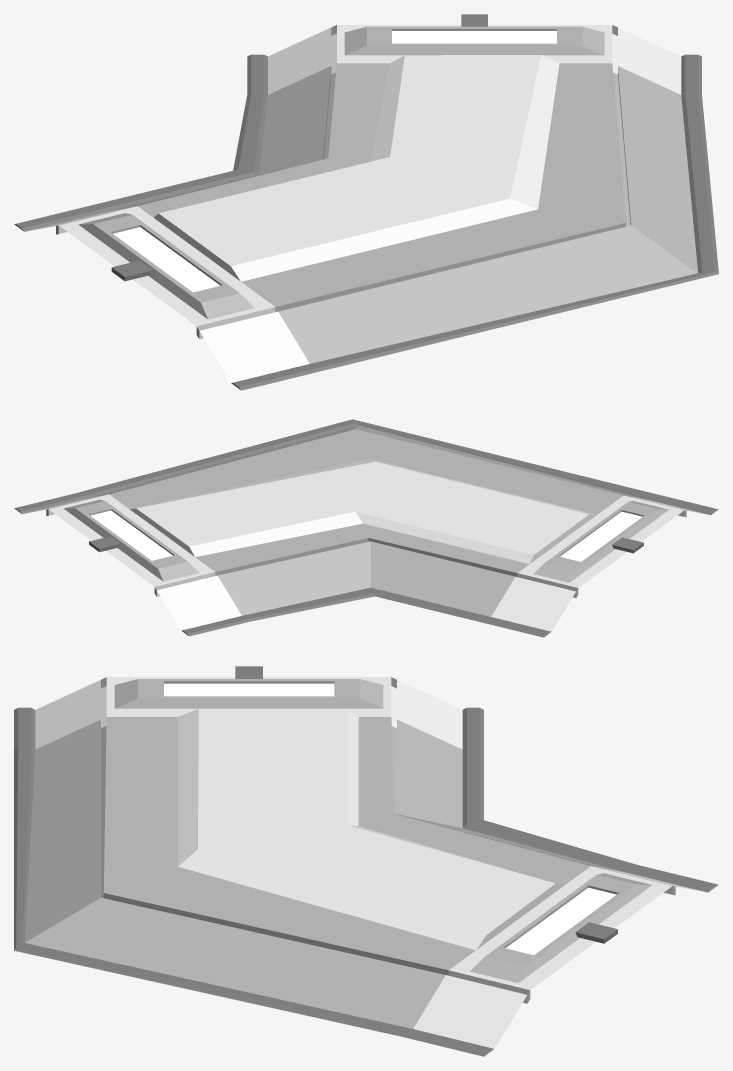
The model's file is Empty_120_degrees.fbx.
The picture shows the model from 3 angles, top to bottom: view 1: azimuth 30°, elevation 25°; view 2: azimuth 150°, elevation 25°; view 3: azimuth 270°, elevation 25°; orthographic projection. The views are drawn at different scales.
Visible parts, largest first — view 1: Empty_120_Degrees; view 2: Empty_120_Degrees; view 3: Empty_120_Degrees.
Part boxes in pixels (x1,y1,x2,y2): Empty_120_Degrees: (14,14,718,390); Empty_120_Degrees: (14,419,718,637); Empty_120_Degrees: (14,666,718,1056).
Size of the model in its own units: 219 by 11.91 by 185.
